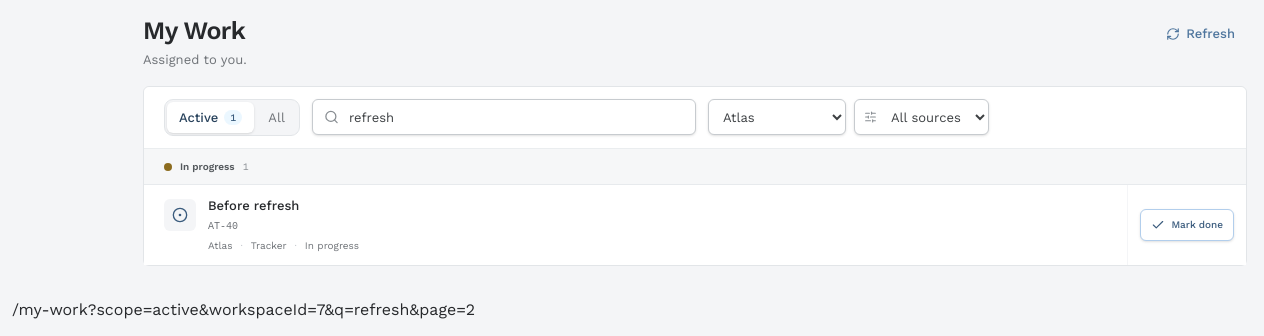
MyWorkPage › refreshes the personal request without changing URL view state
The width and height of the screenshot is (1264, 336).
Check: the text "Before refresh" is shown, box [208,198,299,213]
Click the button with aria-label "refresh my work" at (1201, 34), box [1154,16,1247,52]
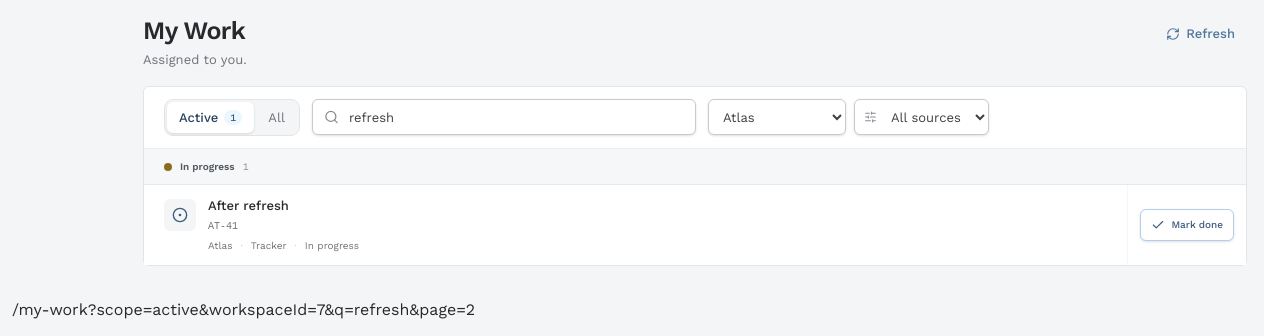
Check: the text with test id "location" reads "/my-work?scope=active&workspaceId=7&q=refresh&page=2", box [12,300,475,319]
Check: the text "After refresh" is shown, box [208,198,289,213]
